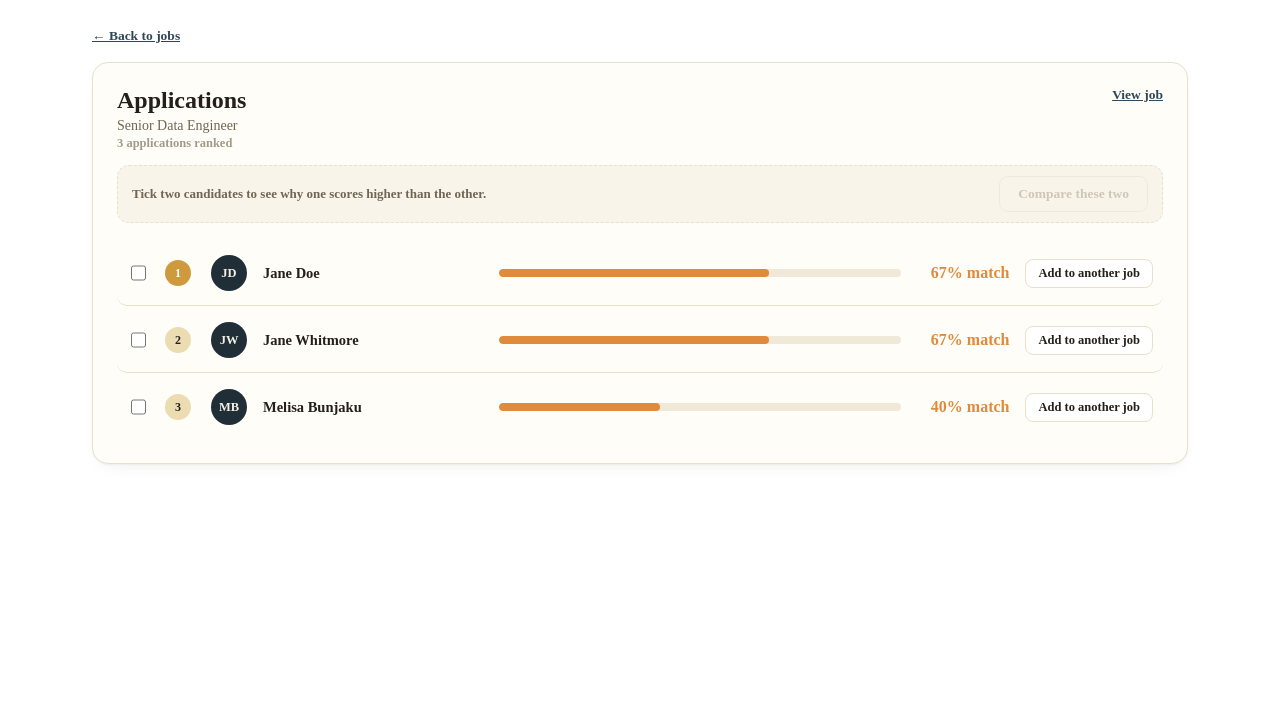
JobMatchesPage › Add to another job › offers a CV picker when the candidate has more than one CV and words an update
Check: the link "Jane Doe" is shown, box [263, 264, 320, 280]
Click the 1st button "Add to another job" at (1089, 273), box [1026, 258, 1153, 288]
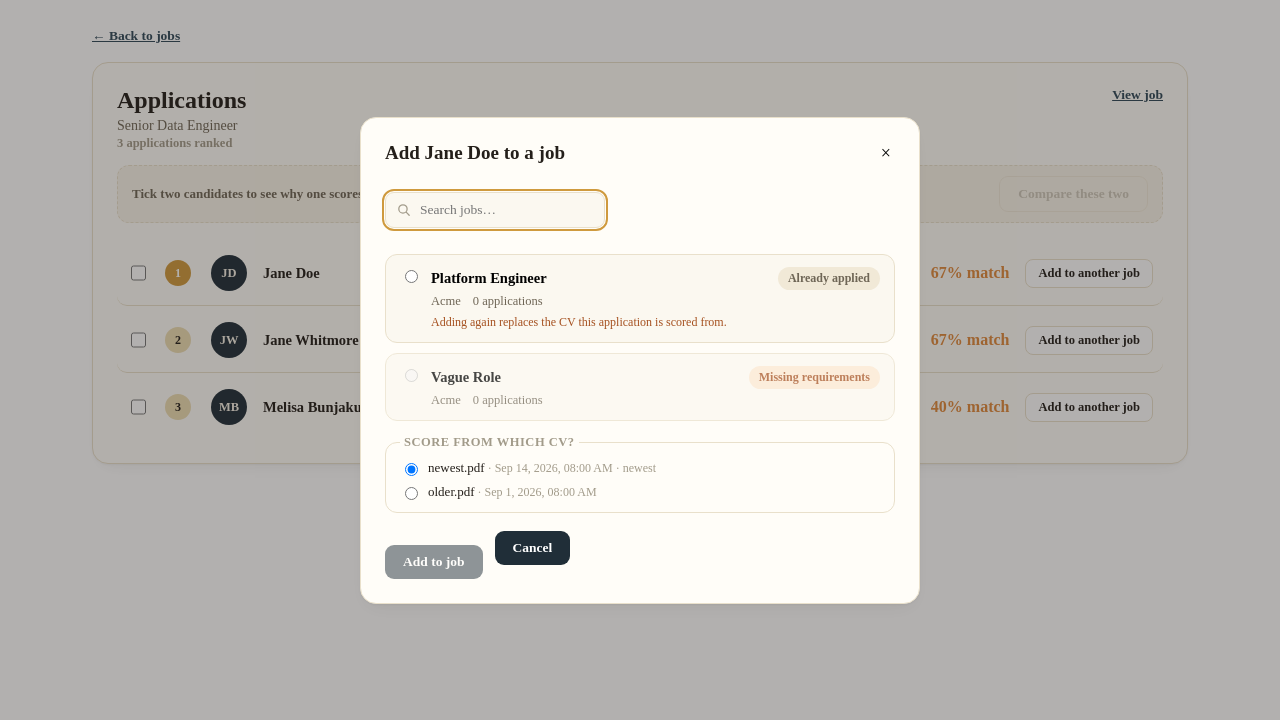
Check: the text "Score from which CV?" is shown, box [400, 434, 578, 450]
Check: the radio button labelled "newest.pdf · Sep 14, 2026, 08:00 AM · newest" is checked, box [405, 462, 418, 476]
Check: the text "Already applied" is shown, box [778, 266, 880, 290]
Click the radio button labelled "older.pdf · Sep 1, 2026, 08:00 AM" at (412, 493), box [405, 486, 418, 500]
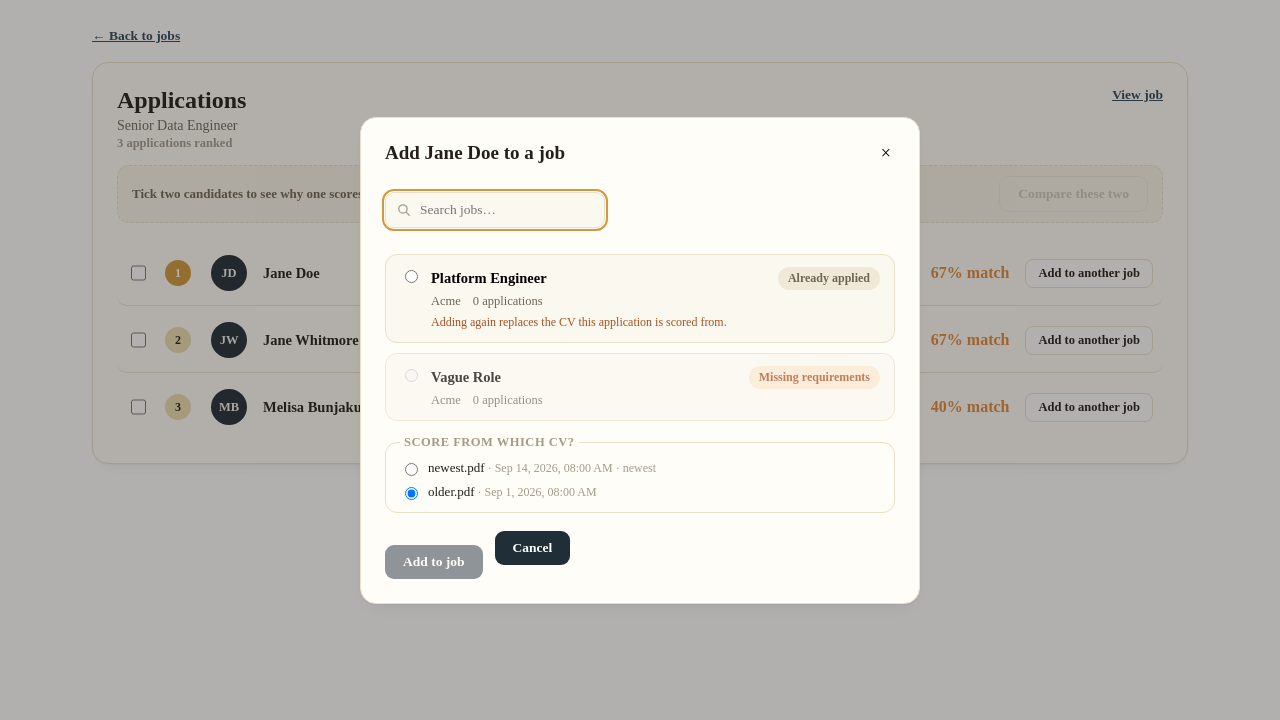
Click the radio button labelled "Platform Engineer" at (412, 276), box [405, 270, 418, 282]
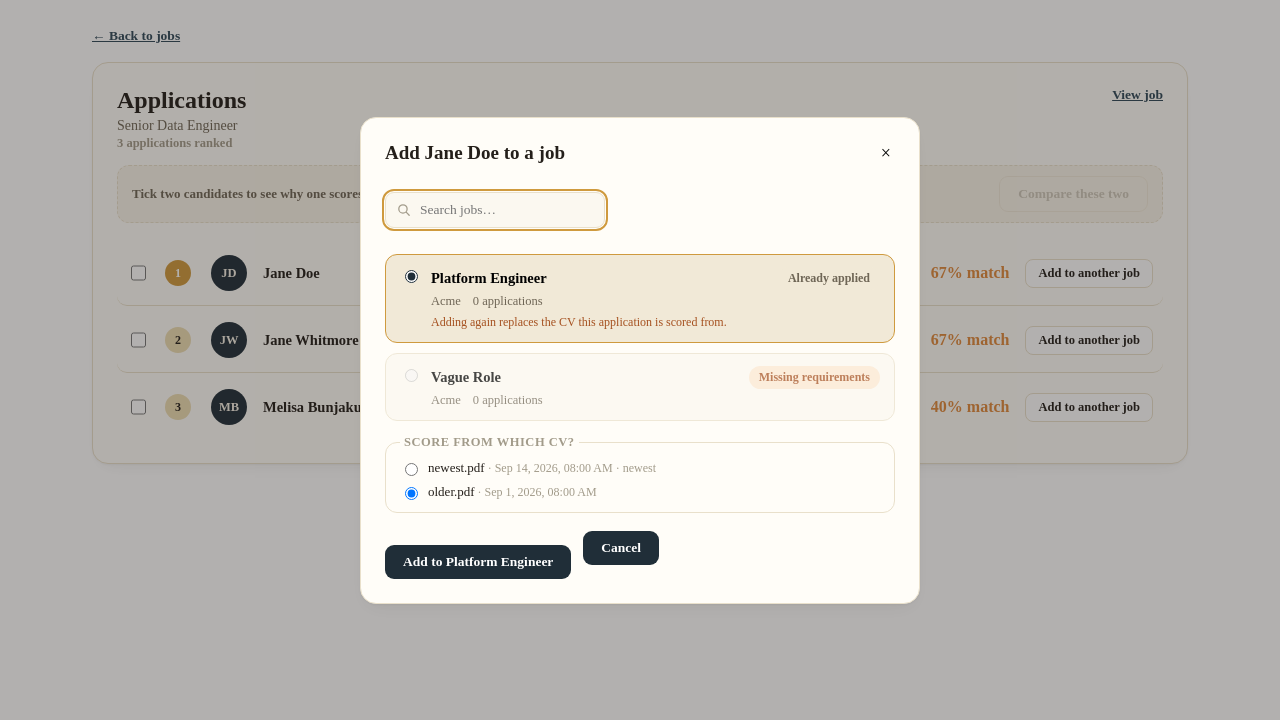
Click the button "Add to Platform Engineer" at (478, 562), box [385, 544, 571, 578]
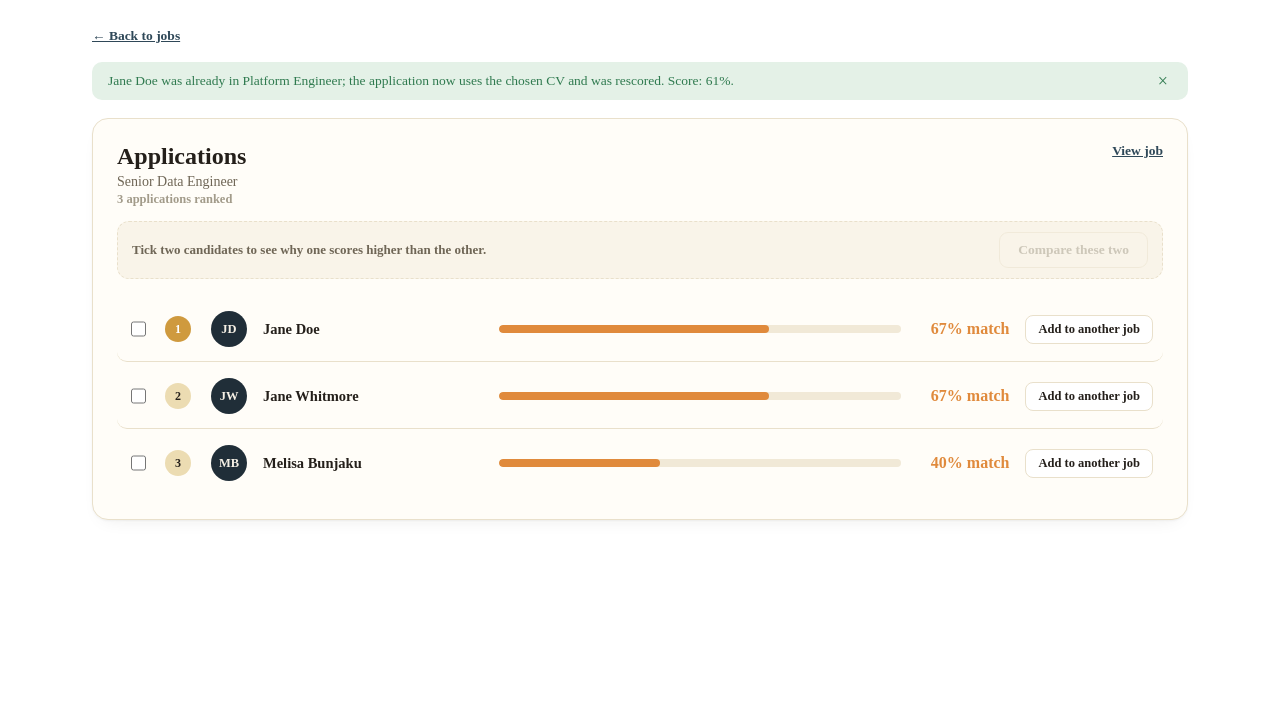
Check: the message shows "Jane Doe was already in Platform Engineer; the application now uses the chosen CV and was rescored. Score: 61%.", box [108, 73, 734, 88]
